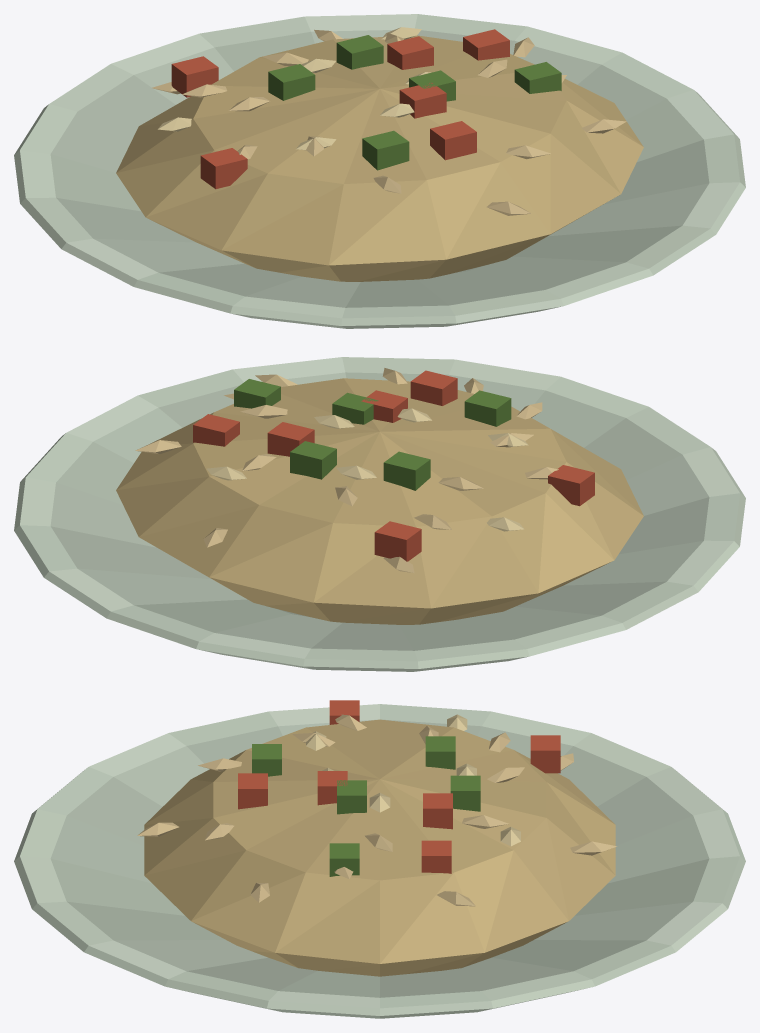
File: rice_fried_veg.glb
The picture shows the model from 3 angles, top to bottom: view 1: azimuth 30°, elevation 25°; view 2: azimuth 150°, elevation 25°; view 3: azimuth 270°, elevation 25°; orthographic projection.
Parts seen in each view (by area): view 1: food; view 2: food; view 3: food.
Part boxes in pixels (x1,y1,x2,y2): food: [14, 14, 745, 328]; food: [14, 357, 745, 671]; food: [14, 700, 745, 1018].
Bounding box in the file's own units: 0.56 × 0.1284 × 0.56.
